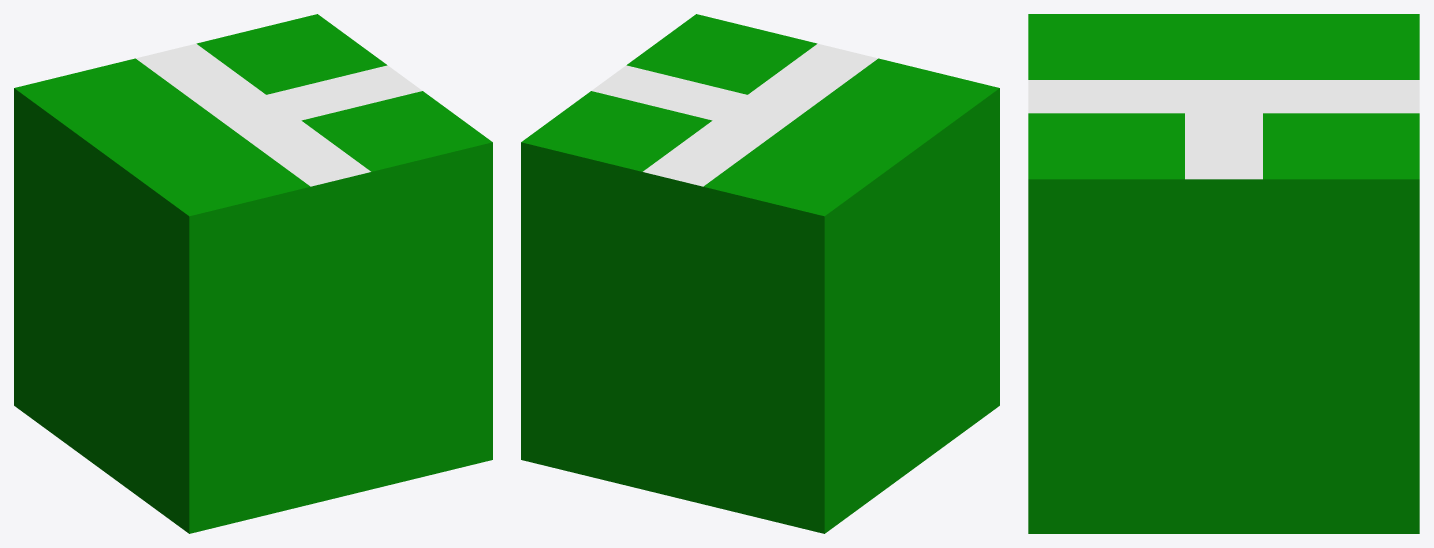
File: FiveTee.obj
3 views of the same model, side by side, from view 1: azimuth 30°, elevation 25°; view 2: azimuth 150°, elevation 25°; view 3: azimuth 270°, elevation 25° (orthographic). The views are drawn at different scales.
Parts seen in each view (by area): view 1: Cube_Cube_Material.002, Cube_Cube_Material.001; view 2: Cube_Cube_Material.002, Cube_Cube_Material.001; view 3: Cube_Cube_Material.002, Cube_Cube_Material.001.
Boxes of the visible parts, x1=… form: Cube_Cube_Material.002: x1=14, y1=14, x2=492, y2=533; Cube_Cube_Material.001: x1=136, y1=43, x2=422, y2=186; Cube_Cube_Material.002: x1=521, y1=14, x2=999, y2=533; Cube_Cube_Material.001: x1=591, y1=43, x2=877, y2=186; Cube_Cube_Material.002: x1=1028, y1=14, x2=1419, y2=533; Cube_Cube_Material.001: x1=1028, y1=80, x2=1419, y2=179.
Bounding box in the file's own units: 2 × 2 × 2.
